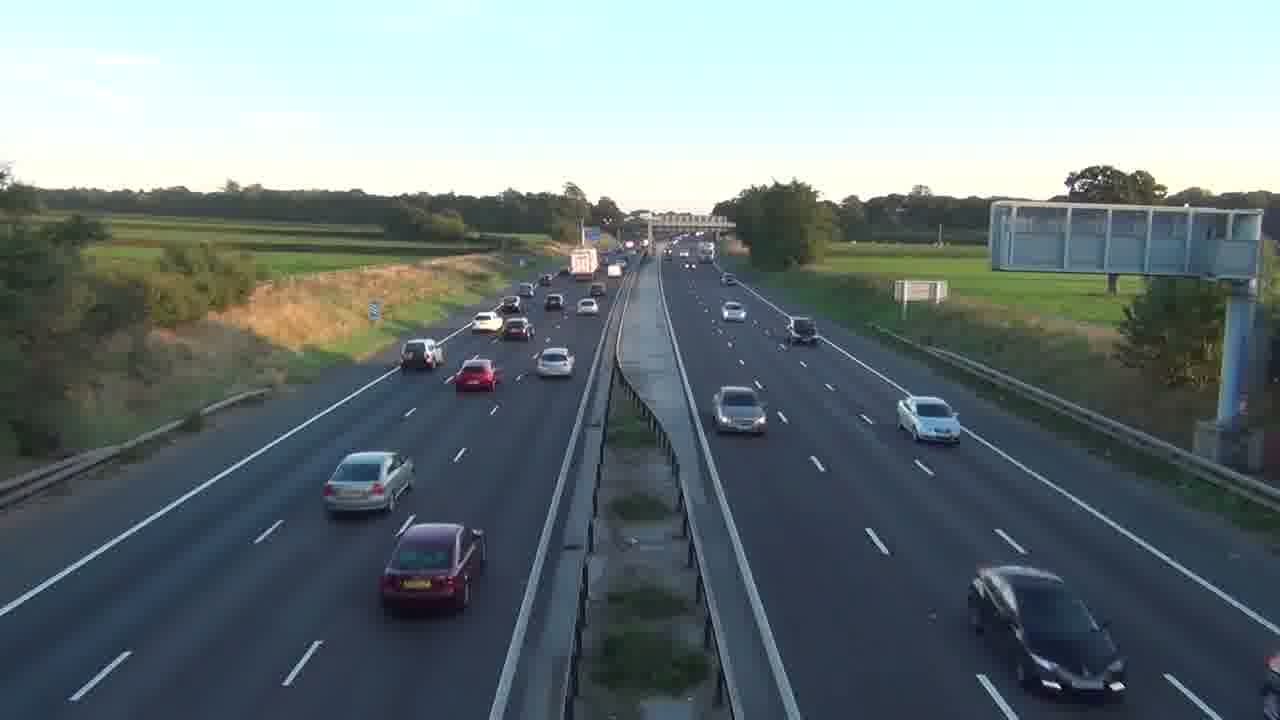car: (378, 516, 486, 615), (321, 450, 416, 518), (895, 395, 961, 446), (712, 385, 767, 436), (1259, 653, 1280, 720), (400, 338, 441, 371), (535, 346, 576, 378), (454, 364, 496, 394), (502, 317, 534, 341), (576, 297, 600, 315)
truck: (966, 562, 1129, 700), (400, 338, 441, 371)
